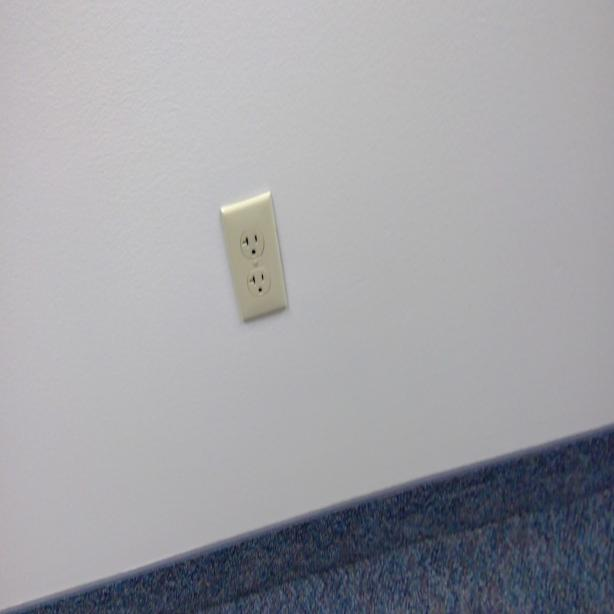typeb: (248, 268, 270, 301), (240, 231, 265, 260)
